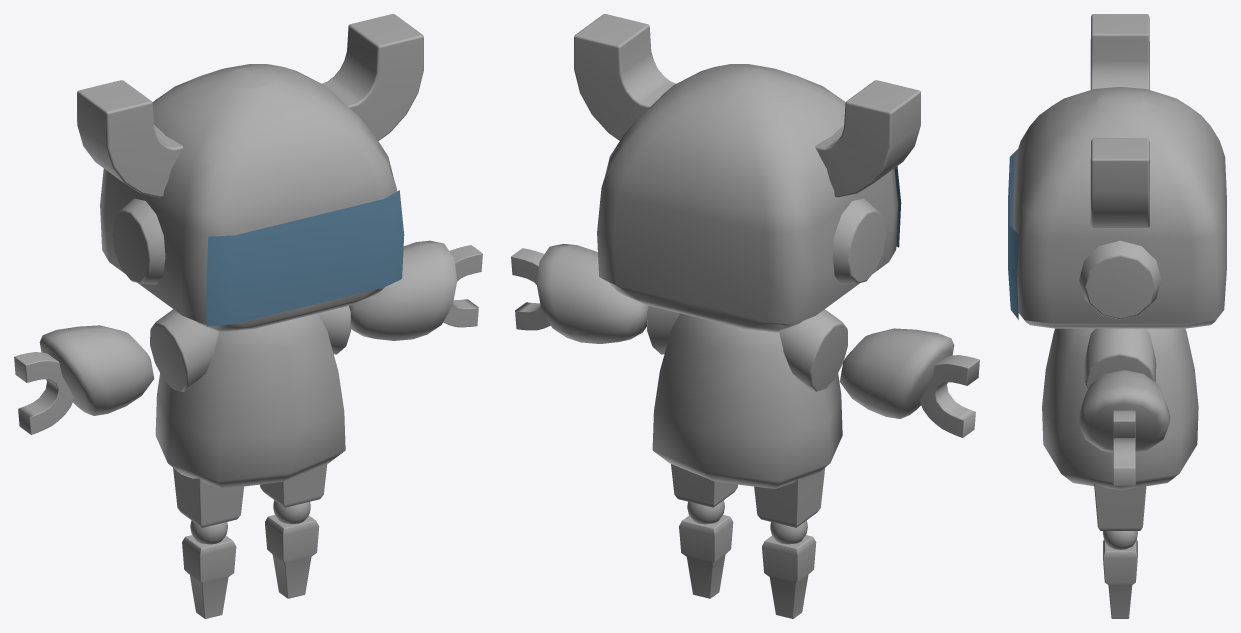
File: modelMain_v3.fbx
3 views of the same model, side by side, from view 1: azimuth 30°, elevation 25°; view 2: azimuth 150°, elevation 25°; view 3: azimuth 270°, elevation 25° (orthographic). The views are drawn at different scales.
Parts seen in each view (by area): view 1: Main_Body_M; view 2: Main_Body_M; view 3: Main_Body_M.
Part boxes in pixels (bbox=[...]): Main_Body_M: bbox=[14, 14, 482, 618]; Main_Body_M: bbox=[511, 14, 979, 618]; Main_Body_M: bbox=[1008, 14, 1226, 618].
Bounding box in the file's own units: 88.34 × 99.81 × 38.82.
